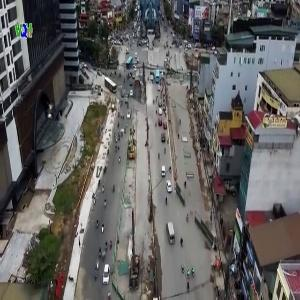drone: (20, 78, 85, 143)
